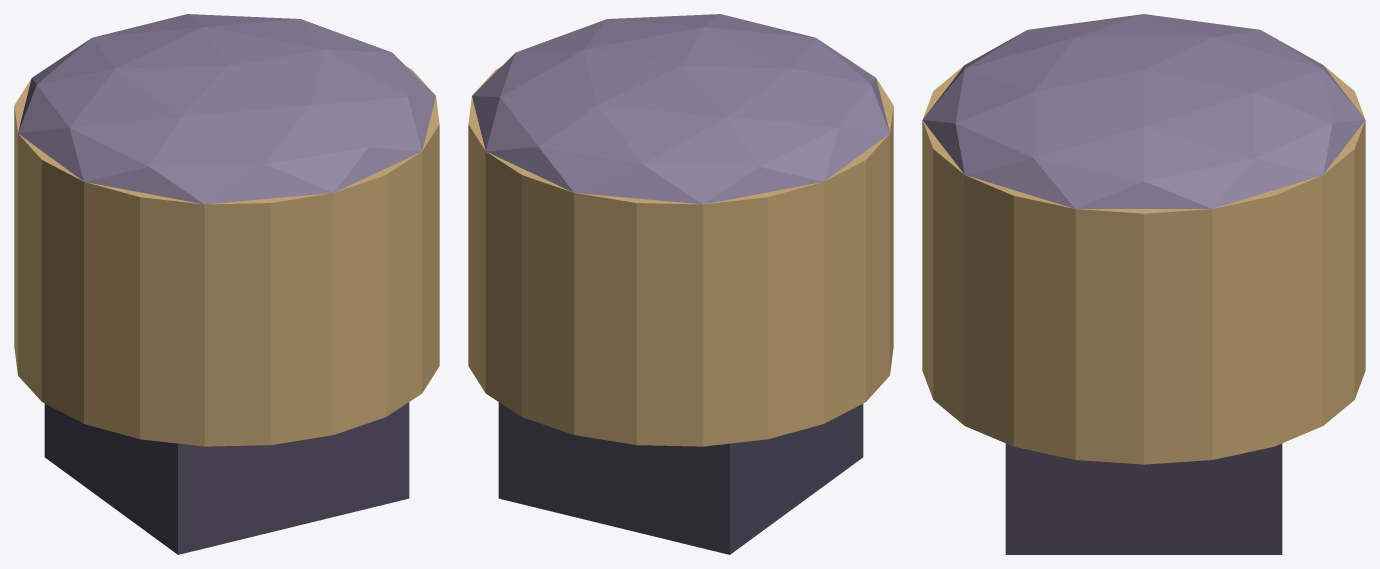
3 views of the same model, side by side, from view 1: azimuth 30°, elevation 25°; view 2: azimuth 150°, elevation 25°; view 3: azimuth 270°, elevation 25° (orthographic). The views are drawn at different scales.
Parts seen in each view (by area): view 1: RC-016 Rooftop water tank batched; view 2: RC-016 Rooftop water tank batched; view 3: RC-016 Rooftop water tank batched.
Part boxes in pixels (x1,y1,x2,y2): RC-016 Rooftop water tank batched: (14, 14, 439, 554); RC-016 Rooftop water tank batched: (468, 14, 893, 554); RC-016 Rooftop water tank batched: (922, 14, 1365, 554).
Size of the model in its own units: 3.2 by 3.4 by 3.2.
